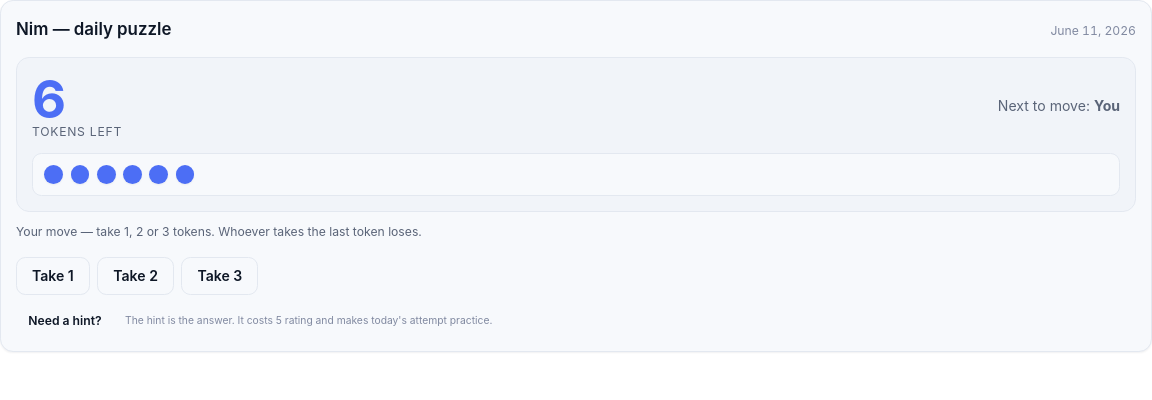
Test: DailyPuzzleCard: submitting › shows a retryable error and keeps the board when the POST fails
This screenshot has width=1152, height=400.
Click the button with test id "puzzle-take-2" at (136, 276), box [97, 257, 174, 295]
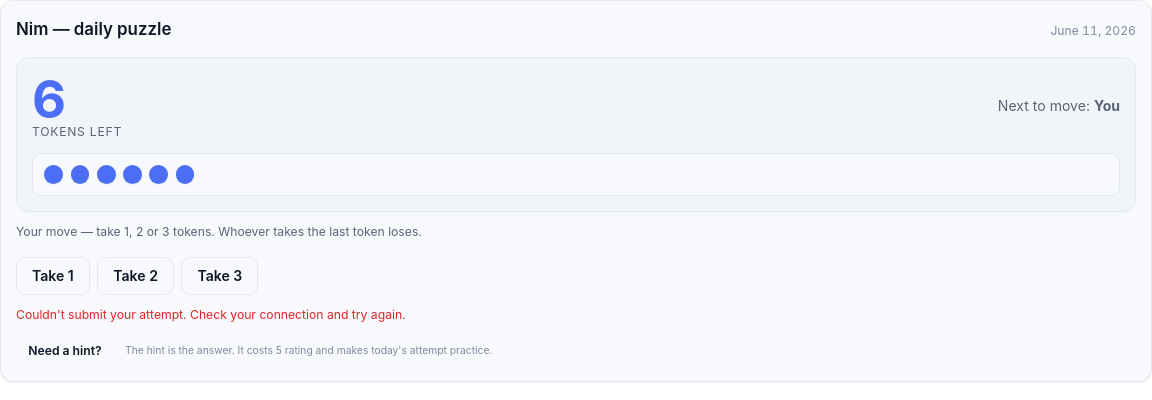
Expected: the message shows "Couldn't submit", [16, 307, 406, 322]
